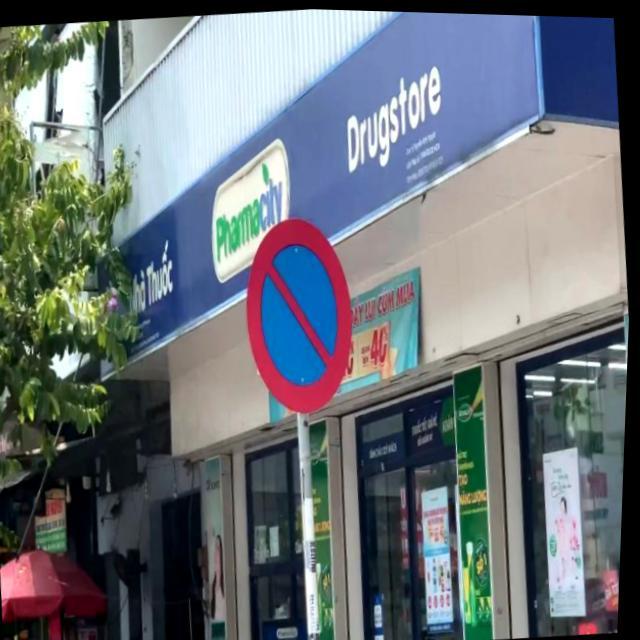Cam do xe: (237, 208, 365, 418)
